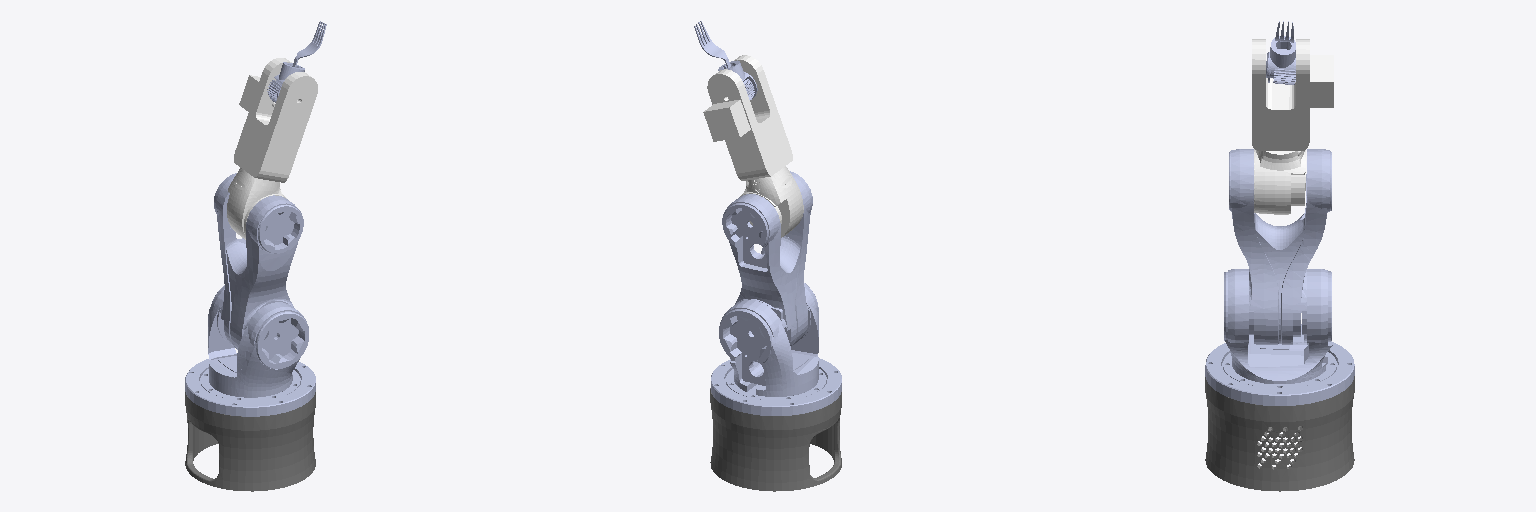
The robot description file, URDF, robot "brazo_sociedad":
<?xml version="1.0" encoding="utf-8"?>
<!-- This URDF was automatically created by SolidWorks to URDF Exporter! Originally created by [author] ([email redacted]) 
     Commit Version: 1.6.0-4-g7f85cfe  Build Version: 1.6.7995.38578
     For more information, please see http://wiki.ros.org/sw_urdf_exporter -->
<robot
  name="brazo_sociedad">
  <link
    name="base_link">
    <inertial>
      <origin
        xyz="0.0111550816057503 -0.125993744795836 0.0852533988124098"
        rpy="0 0 0" />
      <mass
        value="0.496494992903059" />
      <inertia
        ixx="0.00209462542311731"
        ixy="3.33770083165509E-05"
        ixz="-2.94739037540976E-06"
        iyy="0.00281909608076732"
        iyz="-1.44128926790865E-06"
        izz="0.0019061246181238" />
    </inertial>
    <visual>
      <origin
        xyz="0 0 0"
        rpy="0 0 0" />
      <geometry>
        <mesh
          filename="package://brazo_sociedad/meshes/base_link.STL" />
      </geometry>
      <material
        name="">
        <color
          rgba="0.525490196078431 0.525490196078431 0.525490196078431 1" />
      </material>
    </visual>
    <collision>
      <origin
        xyz="0 0 0"
        rpy="0 0 0" />
      <geometry>
        <mesh
          filename="package://brazo_sociedad/meshes/base_link.STL" />
      </geometry>
    </collision>
  </link>
  <link
    name="link_1">
    <inertial>
      <origin
        xyz="0.0019628375988873 -0.00326630888514658 0.0453706982114051"
        rpy="0 0 0" />
      <mass
        value="0.727982956486153" />
      <inertia
        ixx="0.00180244990388783"
        ixy="1.50999713791093E-05"
        ixz="-0.000102383780556745"
        iyy="0.00162382925420862"
        iyz="7.80835216929603E-06"
        izz="0.00181368989537436" />
    </inertial>
    <visual>
      <origin
        xyz="0 0 0"
        rpy="0 0 0" />
      <geometry>
        <mesh
          filename="package://brazo_sociedad/meshes/link_1.STL" />
      </geometry>
      <material
        name="">
        <color
          rgba="0.792156862745098 0.819607843137255 0.933333333333333 1" />
      </material>
    </visual>
    <collision>
      <origin
        xyz="0 0 0"
        rpy="0 0 0" />
      <geometry>
        <mesh
          filename="package://brazo_sociedad/meshes/link_1.STL" />
      </geometry>
    </collision>
  </link>
  <joint
    name="joint_1"
    type="revolute">
    <origin
      xyz="0.0039829 -0.085 -0.086473"
      rpy="0 0 0" />
    <parent
      link="base_link" />
    <child
      link="link_1" />
    <axis
      xyz="0 0 -1" />
    <limit
      lower="-3.14"
      upper="3.14"
      effort="0"
      velocity="0" />
  </joint>
  <link
    name="link_2">
    <inertial>
      <origin
        xyz="-0.00273812000992386 -0.00386813497105661 0.0634837850242389"
        rpy="0 0 0" />
      <mass
        value="0.784842802764081" />
      <inertia
        ixx="0.00306382721717923"
        ixy="-3.42612389478767E-06"
        ixz="3.26923692519107E-05"
        iyy="0.00292478904676872"
        iyz="1.70130651479054E-06"
        izz="0.000773223463182544" />
    </inertial>
    <visual>
      <origin
        xyz="0 0 0"
        rpy="0 0 0" />
      <geometry>
        <mesh
          filename="package://brazo_sociedad/meshes/link_2.STL" />
      </geometry>
      <material
        name="">
        <color
          rgba="0.792156862745098 0.819607843137255 0.933333333333333 1" />
      </material>
    </visual>
    <collision>
      <origin
        xyz="0 0 0"
        rpy="0 0 0" />
      <geometry>
        <mesh
          filename="package://brazo_sociedad/meshes/link_2.STL" />
      </geometry>
    </collision>
  </link>
  <joint
    name="joint_2"
    type="revolute">
    <origin
      xyz="0.0125 0 0.0915"
      rpy="0 0 0" />
    <parent
      link="link_1" />
    <child
      link="link_2" />
    <axis
      xyz="-0.0033965 -0.99999 0" />
    <limit
      lower="-0.75"
      upper="0.60"
      effort="0"
      velocity="0" />
  </joint>
  <link
    name="link_3">
    <inertial>
      <origin
        xyz="0.0682848562014784 0.000268327737997398 0.0134860411659965"
        rpy="0 0 0" />
      <mass
        value="0.675178369816055" />
      <inertia
        ixx="0.00040330912704945"
        ixy="7.95461637608253E-06"
        ixz="-3.33436112625294E-05"
        iyy="0.000849690335755489"
        iyz="-3.29102101643685E-06"
        izz="0.000874307701150754" />
    </inertial>
    <visual>
      <origin
        xyz="0 0 0"
        rpy="0 0 0" />
      <geometry>
        <mesh
          filename="package://brazo_sociedad/meshes/link_3.STL" />
      </geometry>
      <material
        name="">
        <color
          rgba="1 1 1 1" />
      </material>
    </visual>
    <collision>
      <origin
        xyz="0 0 0"
        rpy="0 0 0" />
      <geometry>
        <mesh
          filename="package://brazo_sociedad/meshes/link_3.STL" />
      </geometry>
    </collision>
  </link>
  <joint
    name="joint_3"
    type="revolute">
    <origin
      xyz="0 0.0024649 0.1575"
      rpy="0 0 0" />
    <parent
      link="link_2" />
    <child
      link="link_3" />
     <axis
      xyz="0.0033965 0.99999 0" />
    <limit
      lower="-2.15"
      upper="-0.25"
      effort="0"
      velocity="0" />
  </joint>
  <link
    name="link_4">
    <inertial>
      <origin
        xyz="0.00527649564261556 0.00158114487005342 -0.00536452839123527"
        rpy="0 0 0" />
      <mass
        value="0.0436513988454039" />
      <inertia
        ixx="8.86119636001668E-06"
        ixy="-1.63104435772817E-07"
        ixz="1.57136010993116E-06"
        iyy="1.03635586855172E-05"
        iyz="1.38591647482851E-07"
        izz="8.87138714678823E-06" />
    </inertial>
    <visual>
      <origin
        xyz="0 0 0"
        rpy="0 0 0" />
      <geometry>
        <mesh
          filename="package://brazo_sociedad/meshes/link_4.STL" />
      </geometry>
      <material
        name="">
        <color
          rgba="0.792156862745098 0.819607843137255 0.933333333333333 1" />
      </material>
    </visual>
    <collision>
      <origin
        xyz="0 0 0"
        rpy="0 0 0" />
      <geometry>
        <mesh
          filename="package://brazo_sociedad/meshes/link_4.STL" />
      </geometry>
    </collision>
  </link>
  <joint
    name="joint_4"
    type="revolute">
    <origin
      xyz="0.16816 -0.0024649 0.019965"
      rpy="0 0 0" />
    <parent
      link="link_3" />
    <child
      link="link_4" />
    <axis
      xyz="0.059205 0.9908 -0.1217" />
    <limit
      lower="-1.10"
      upper="-0.30"
      effort="0"
      velocity="0" />
  </joint>
</robot>

--- Render facts (derived) ---
Views: 3 orthographic renders of the robot side by side, from view 1: azimuth 30°, elevation 25°; view 2: azimuth 150°, elevation 25°; view 3: azimuth 270°, elevation 25°.
Model brazo_sociedad with 5 links and 4 joints (4 revolute), rooted at base_link, posed all joints at 0 but 2 set to mid-range because 0 is outside their limits (joint_3 = -1.2, joint_4 = -0.7).
Links seen in each view (by area): view 1: link_1, base_link, link_3, link_2, link_4; view 2: link_1, base_link, link_3, link_2, link_4; view 3: base_link, link_1, link_2, link_3, link_4.
Boxes of the visible links, x1,y1,x2,y2 form: link_1: [185, 285, 315, 416]; base_link: [185, 392, 315, 491]; link_3: [227, 58, 317, 239]; link_2: [214, 173, 303, 349]; link_4: [267, 21, 326, 102]; link_1: [711, 283, 841, 415]; base_link: [710, 388, 841, 491]; link_3: [703, 55, 803, 237]; link_2: [722, 171, 812, 346]; link_4: [694, 21, 757, 99]; base_link: [1205, 376, 1354, 491]; link_1: [1205, 269, 1354, 405]; link_2: [1229, 149, 1331, 344]; link_3: [1252, 39, 1333, 214]; link_4: [1266, 21, 1295, 84].
Size in the robot's own frame: 0.1992 by 0.17 by 0.6041 metres.
5 mesh visuals loaded from 5 distinct referenced files (5 binary STL).